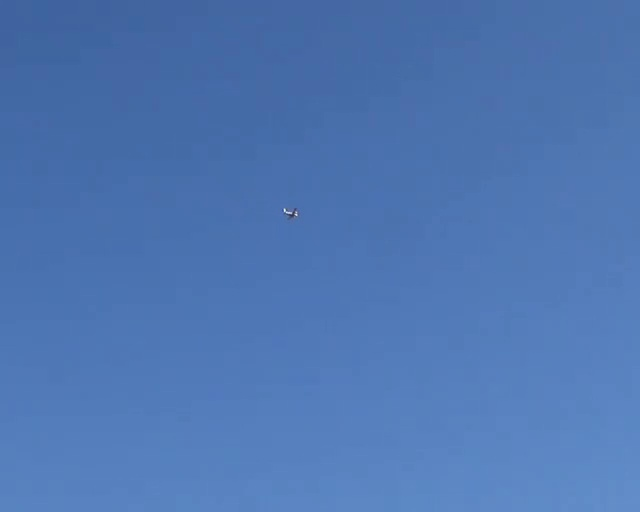AIRPLANE: (282, 206, 298, 219)
